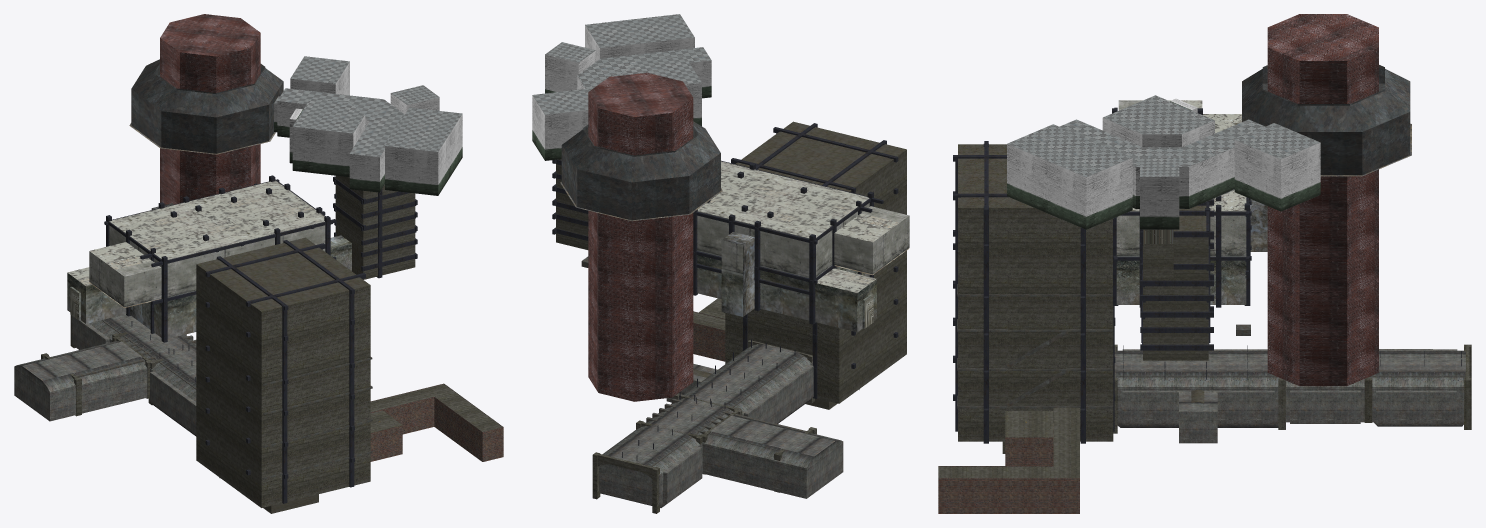
File: map.FBX
3 views of the same model, side by side, from view 1: azimuth 30°, elevation 25°; view 2: azimuth 150°, elevation 25°; view 3: azimuth 270°, elevation 25° (orthographic). The views are drawn at different scales.
Parts seen in each view (by area): view 1: Box114, Line005, base, htgh, const, Object001, ww, Objecrgfet005, Opr, Box027; view 2: Box114, base, Line005, htgh, Object001, const, Opr, Box027, ww, Objecrgfet005; view 3: Box114, Line005, base, const, ww, htgh, Objecrgfet005, Opr, Box027, Object001, Line010, Line009.
Part boxes in pixels (bbox=[...]): Box114: bbox=[129, 14, 462, 279]; Line005: bbox=[196, 237, 370, 513]; base: bbox=[14, 314, 196, 436]; htgh: bbox=[67, 203, 351, 338]; const: bbox=[104, 175, 417, 503]; Object001: bbox=[67, 180, 324, 285]; ww: bbox=[370, 383, 503, 461]; Objecrgfet005: bbox=[370, 384, 502, 432]; Opr: bbox=[41, 315, 163, 416]; Box027: bbox=[51, 320, 196, 398]; Box114: bbox=[532, 14, 722, 401]; base: bbox=[599, 344, 843, 507]; Line005: bbox=[725, 121, 906, 409]; htgh: bbox=[697, 198, 909, 332]; Object001: bbox=[698, 161, 876, 292]; const: bbox=[552, 123, 898, 398]; Opr: bbox=[592, 340, 816, 513]; Box027: bbox=[605, 344, 806, 466]; ww: bbox=[693, 311, 725, 361]; Objecrgfet005: bbox=[693, 298, 725, 330]; Box114: bbox=[1007, 14, 1411, 386]; Line005: bbox=[958, 144, 1113, 453]; base: bbox=[1114, 349, 1465, 443]; const: bbox=[953, 107, 1251, 443]; ww: bbox=[938, 437, 1079, 513]; htgh: bbox=[1116, 100, 1267, 304]; Objecrgfet005: bbox=[938, 407, 1079, 478]; Opr: bbox=[1113, 344, 1471, 433]; Box027: bbox=[1115, 350, 1465, 383]; Object001: bbox=[1131, 114, 1246, 210]; Line010: bbox=[957, 319, 1112, 368]; Line009: bbox=[957, 358, 1112, 406].
Size of the model in its own units: 459 by 481 by 538.
